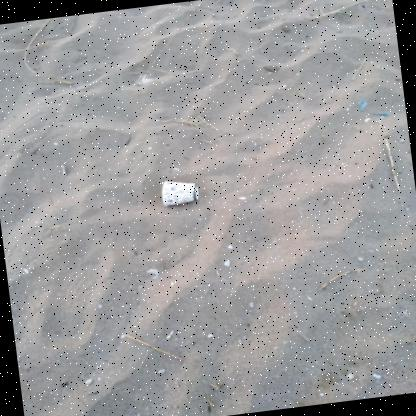Paper cup: (162, 181, 198, 206)
Unlabeled litter: (358, 101, 366, 111), (372, 112, 389, 115)
